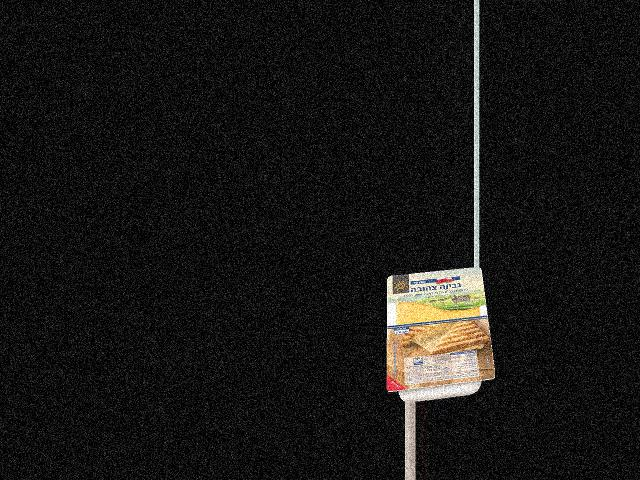cheese: (391, 268, 492, 402)
